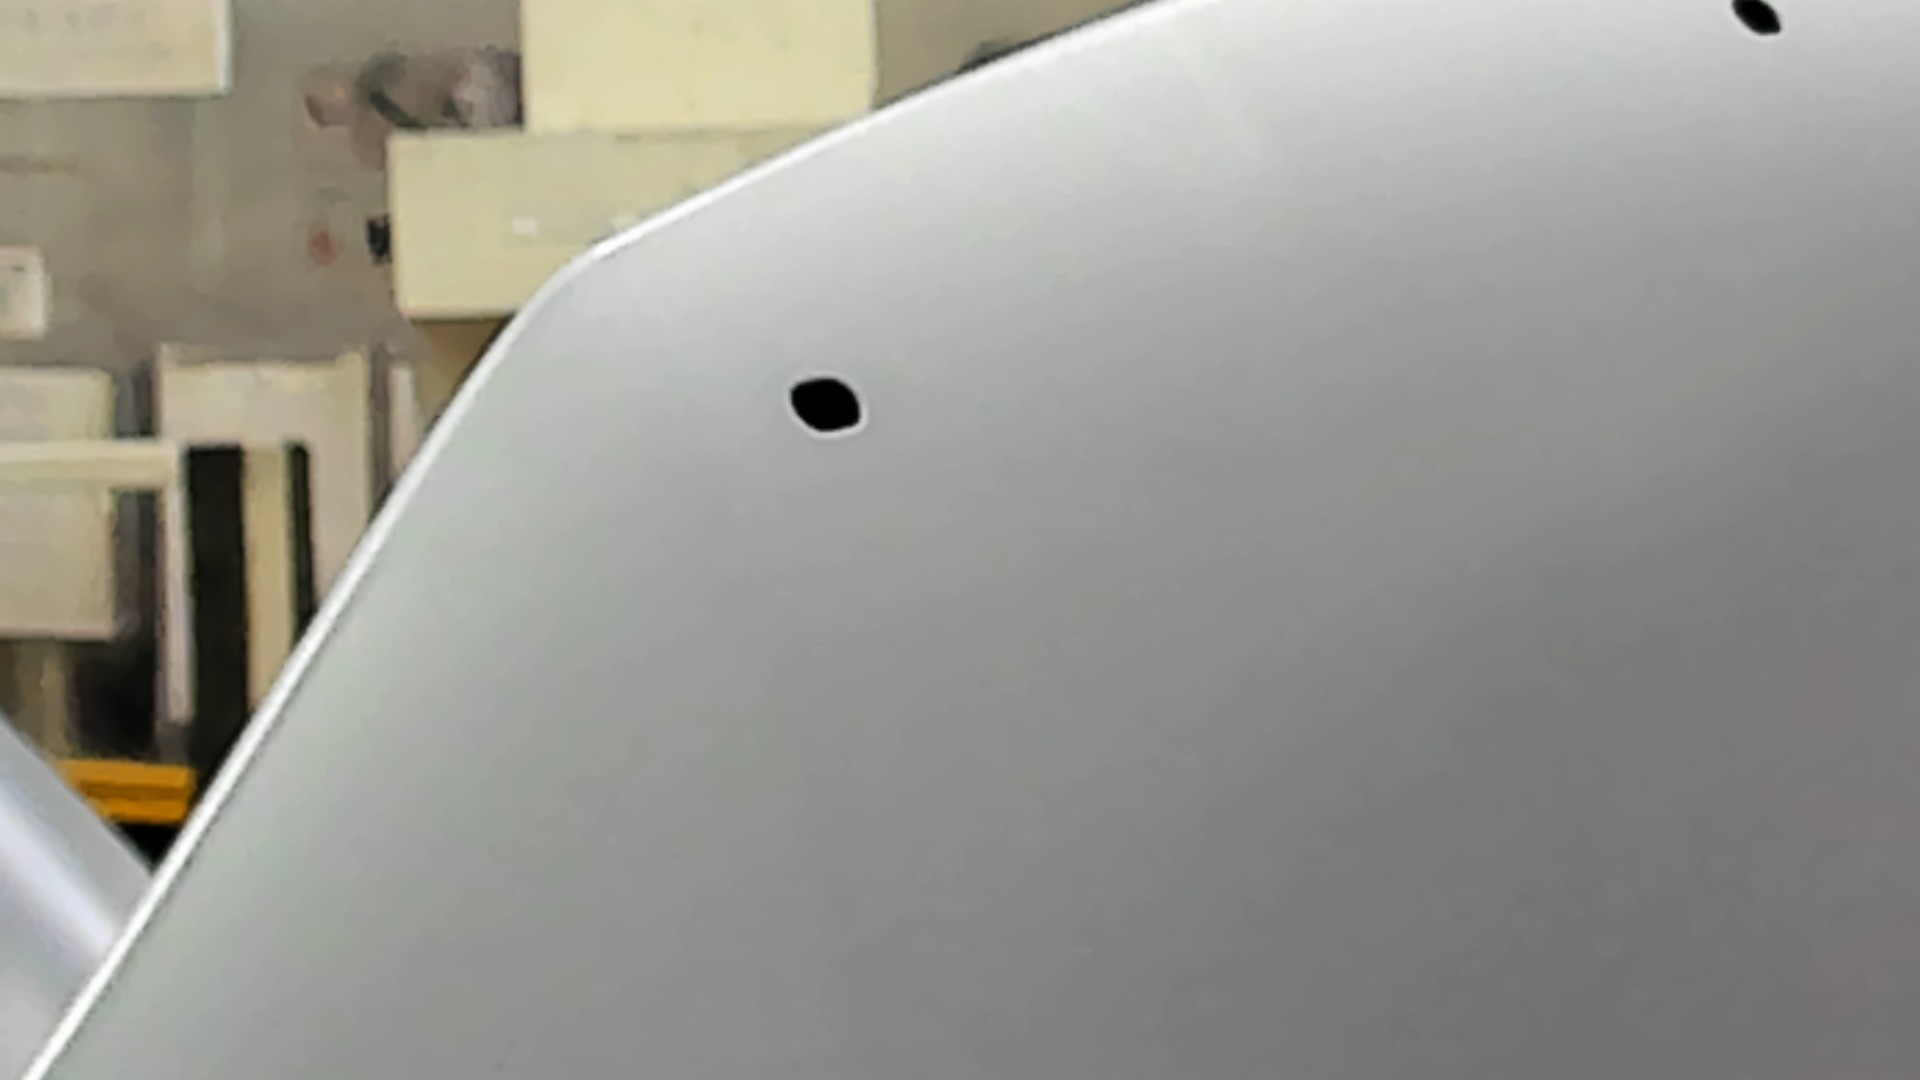amorfo: (785, 373, 873, 440), (1727, 1, 1793, 51)
